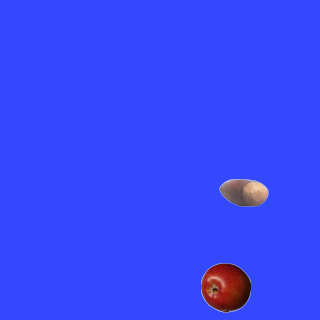Apple Braeburn: (200, 262, 250, 312)
Hazelnut: (218, 167, 268, 217)
